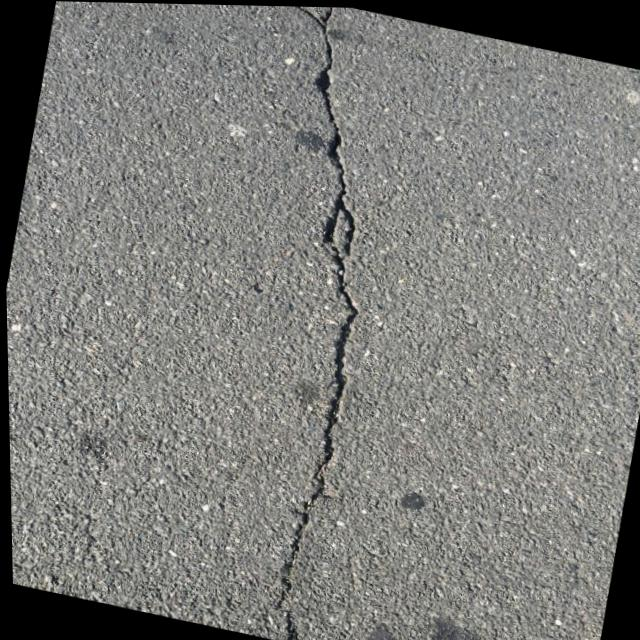Crack: (168, 3, 449, 640)
